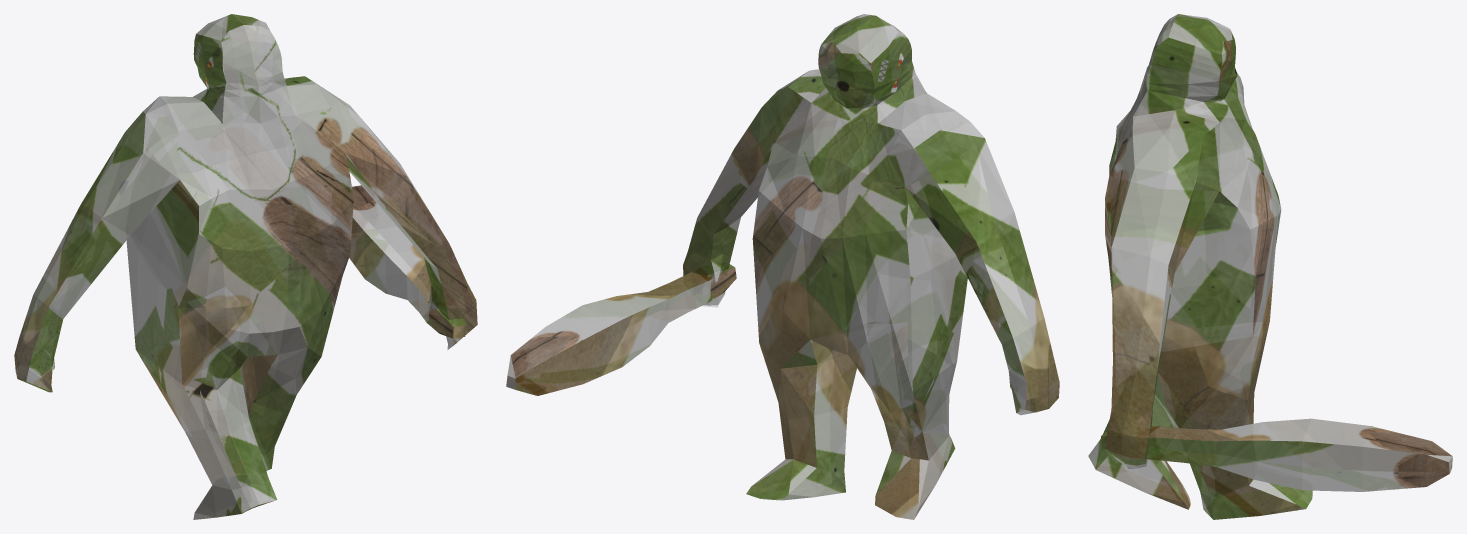
The model's file is Enemigo213.obj.
3 renders of one model, left to right at view 1: azimuth 30°, elevation 25°; view 2: azimuth 150°, elevation 25°; view 3: azimuth 270°, elevation 25°, orthographic. The views are drawn at different scales.
Visible parts, largest first — view 1: Cube; view 2: Cube; view 3: Cube.
Part boxes in pixels (x1,y1,x2,y2): Cube: (14, 14, 477, 519); Cube: (506, 14, 1059, 519); Cube: (1088, 14, 1452, 519).
Size of the model in its own units: 2.69 by 2.84 by 1.87.
